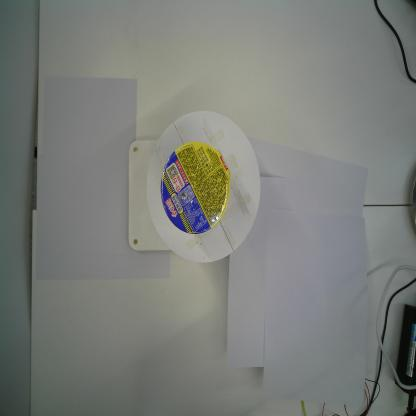Instant Noodles: (160, 141, 233, 235)
